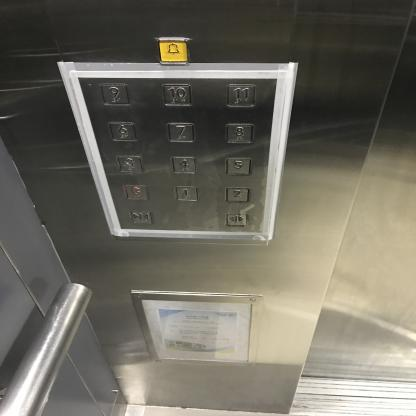1: (174, 185, 200, 202)
10: (160, 82, 193, 107)
11: (226, 83, 258, 108)
2: (224, 186, 251, 204)
3: (116, 154, 144, 173)
4: (169, 155, 198, 175)
5: (225, 156, 252, 177)
6: (106, 120, 138, 142)
7: (166, 121, 196, 144)
8: (225, 122, 254, 144)
9: (99, 83, 131, 106)
G: (122, 183, 150, 201)
alarm: (155, 37, 191, 66)
close: (129, 209, 155, 226)
open: (224, 212, 249, 227)
